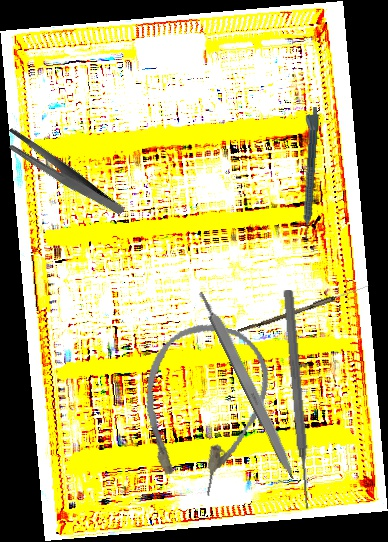Cannula: (124, 312, 279, 504)
Dressing Forceps: (0, 106, 126, 241)
Handpiece: (295, 106, 321, 239)
Pusher: (280, 289, 315, 511)
Scalpel Handle: (196, 287, 301, 481)
Surgical Spoon: (237, 282, 370, 336)
